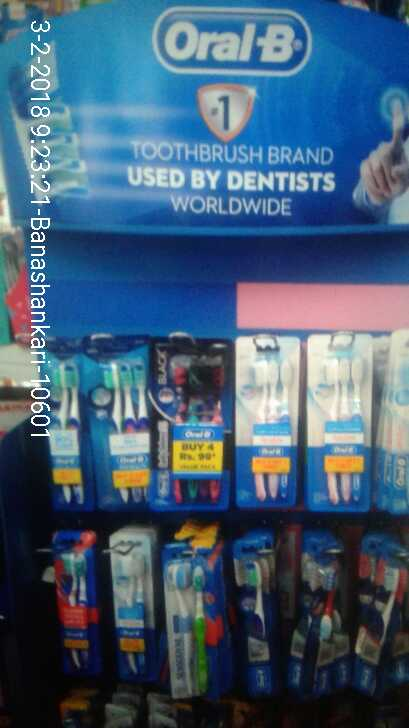oralb: (146, 341, 220, 504), (304, 345, 375, 513), (233, 343, 294, 510), (89, 345, 153, 504), (38, 342, 95, 506), (156, 552, 216, 702), (50, 543, 98, 680), (357, 556, 406, 686), (105, 554, 153, 685), (300, 554, 344, 690), (233, 561, 276, 693)
